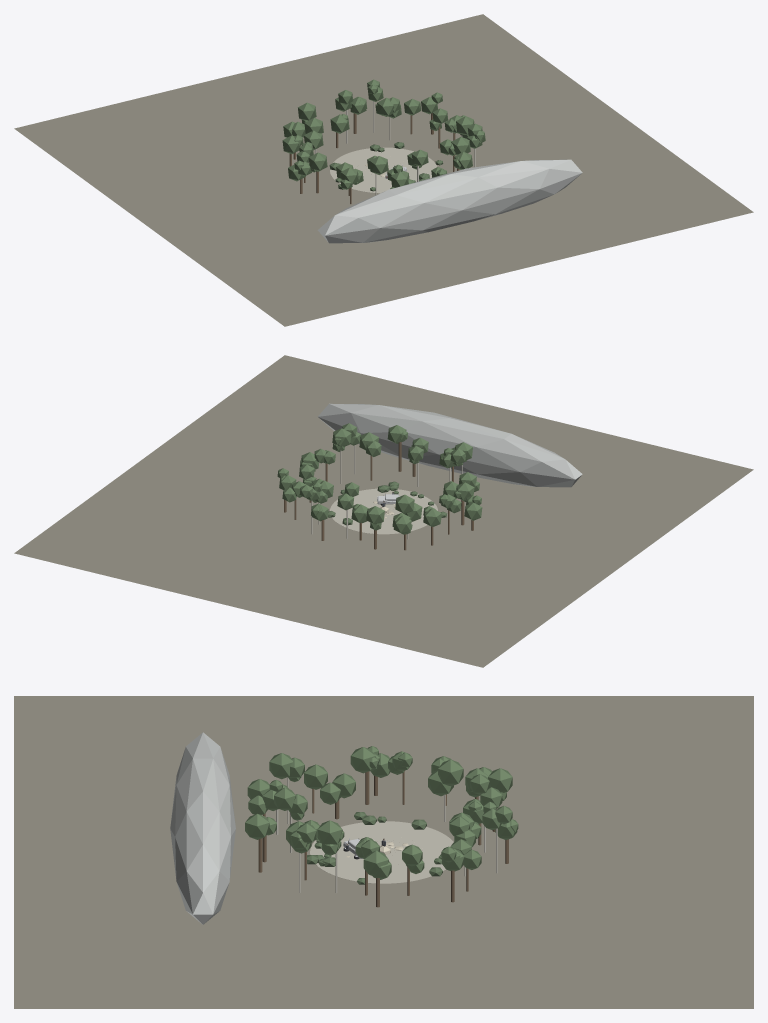
3 renders of one model, top to bottom at view 1: azimuth 30°, elevation 25°; view 2: azimuth 150°, elevation 25°; view 3: azimuth 270°, elevation 25°, orthographic. The views are drawn at different scales.
Visible parts, largest first — view 1: ground_dirt, far_haze, concrete_pad; view 2: ground_dirt, far_haze, concrete_pad; view 3: ground_dirt, far_haze, concrete_pad, tree_leaf_11_1.
Part boxes in pixels (<box>): ground_dirt: <box>14,14,753,326</box>; far_haze: <box>317,159,582,243</box>; concrete_pad: <box>330,147,437,193</box>; ground_dirt: <box>14,355,753,667</box>; far_haze: <box>318,403,582,487</box>; concrete_pad: <box>330,488,437,534</box>; ground_dirt: <box>14,696,753,1008</box>; far_haze: <box>170,732,235,924</box>; concrete_pad: <box>310,821,453,883</box>; tree_leaf_11_1: <box>438,759,463,786</box>.
Bounding box in the file's own units: 90 × 12.04 × 90.
